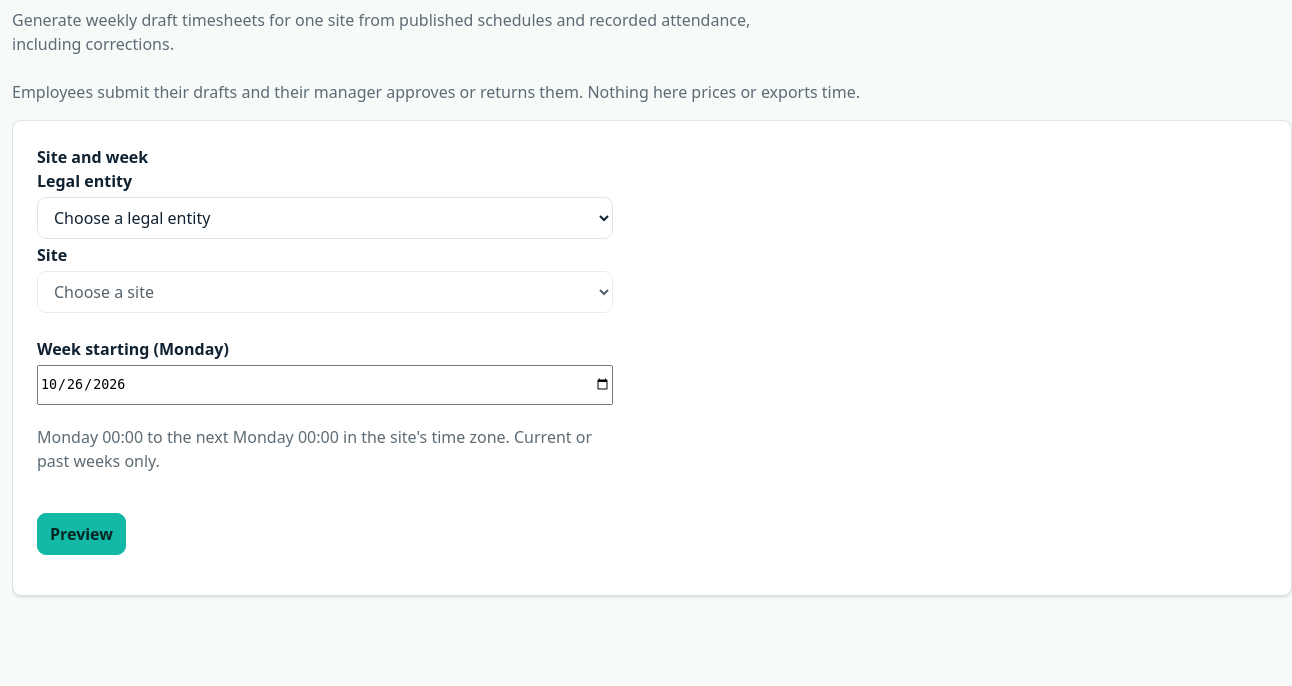
Timesheets (en) › shows a refused week without guessing
This screenshot has width=1292, height=686.
Step 1. Select "Dival RDC (DRC)" in the dropdown labelled "Legal entity" → point(325, 218), box [37,197,613,239]
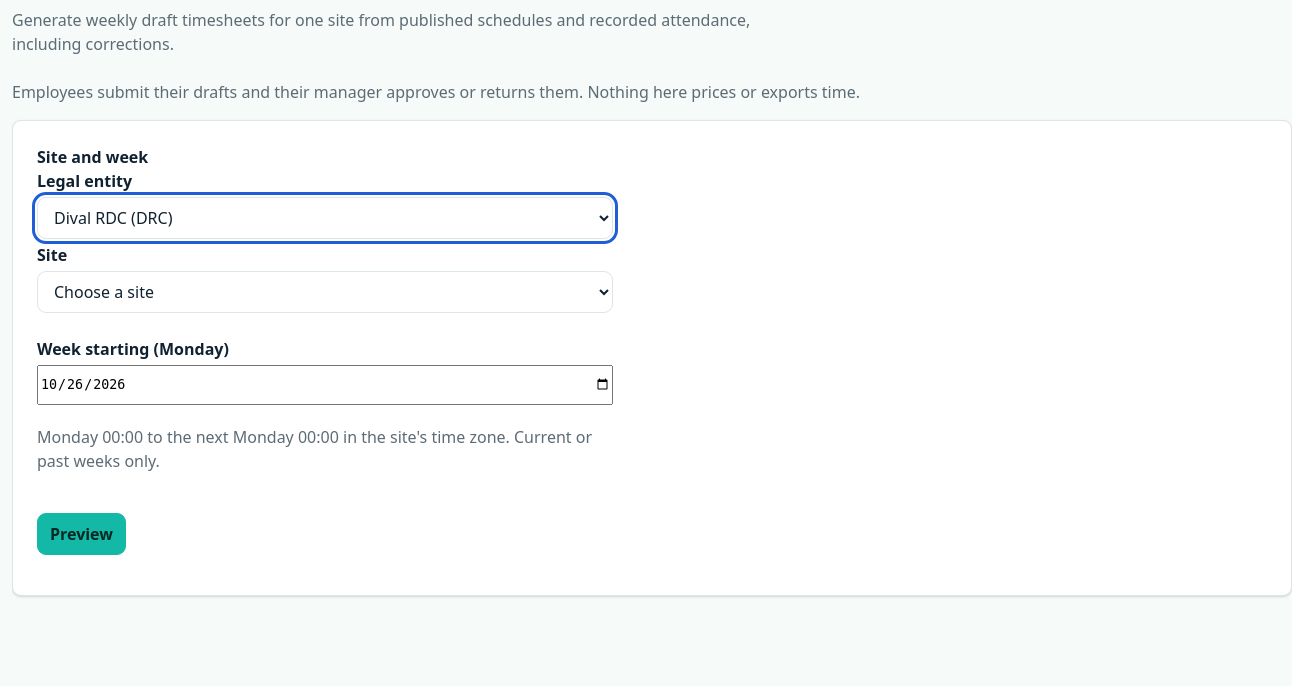
Step 2. Select "Kinshasa Gombe (KIN)" in the dropdown labelled "Site" → point(325, 292), box [37,271,613,313]
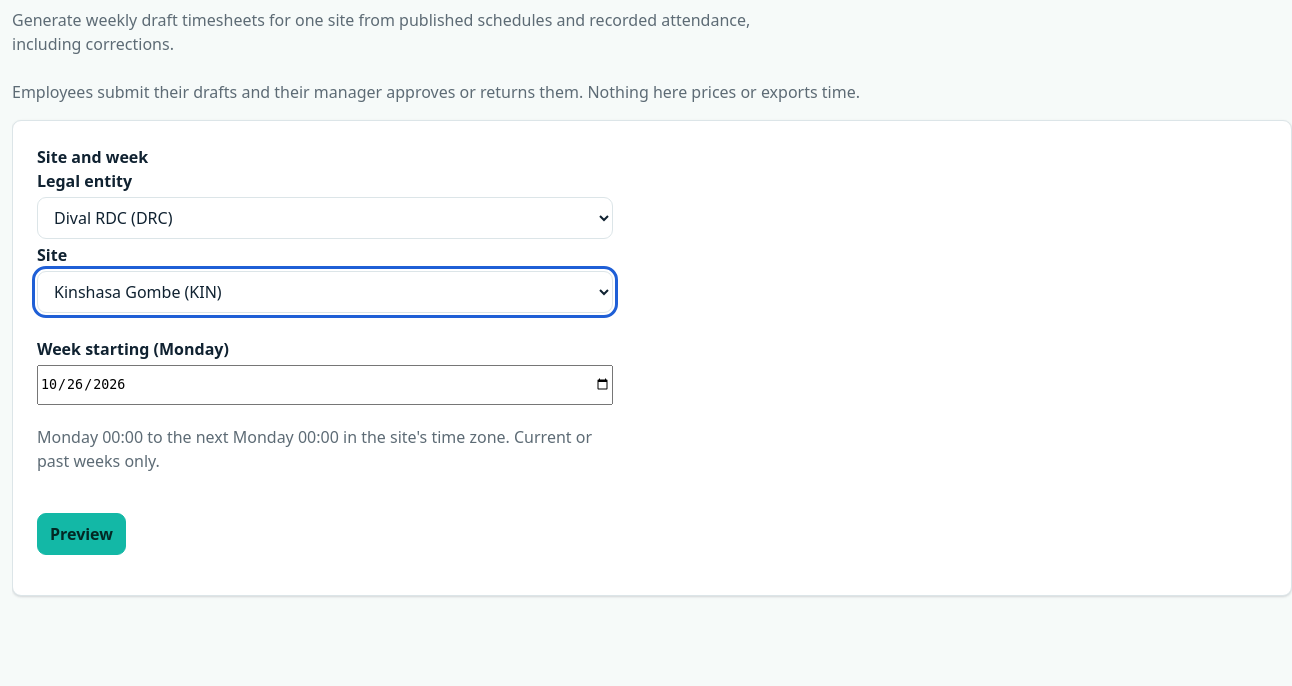
Step 3. Type "2099-11-02" into the date field labelled "Week starting (Monday)" → point(325, 385), box [37,365,613,405]
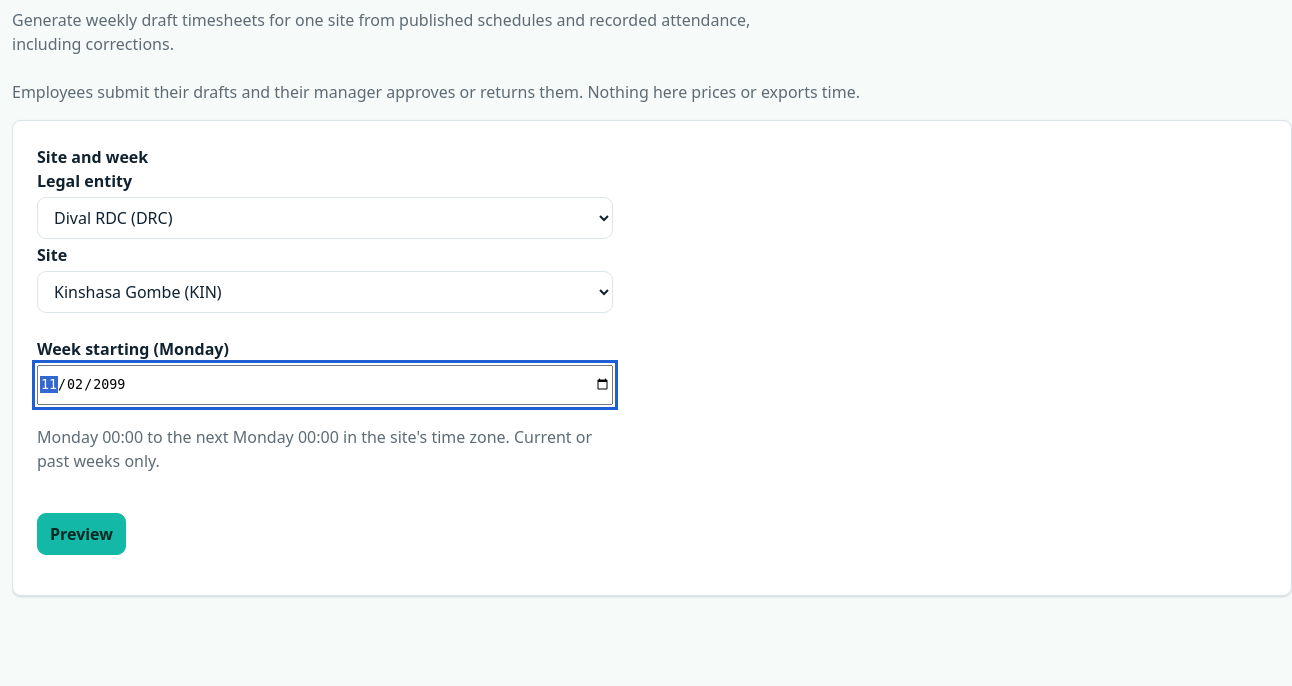
Step 4. Click the button "Preview" → point(82, 534), box [37,513,126,555]
(page scrolled)
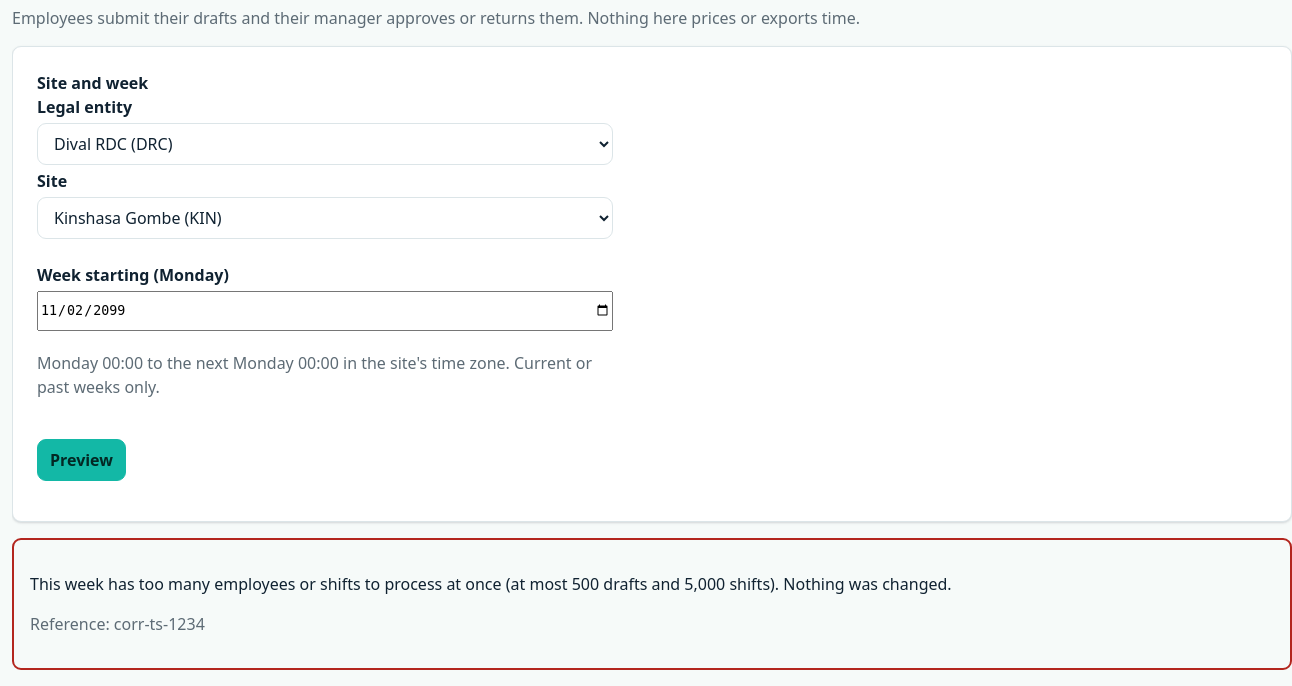
expect the message with test id "timesheets-error" shows "This week has too many employees or shifts to process at once (at most 500 drafts and 5,000 shifts). Nothing was changed.": met, box [30,573,952,595]
expect the message with test id "timesheets-error" shows "corr-ts-1234": met, box [30,613,205,635]
